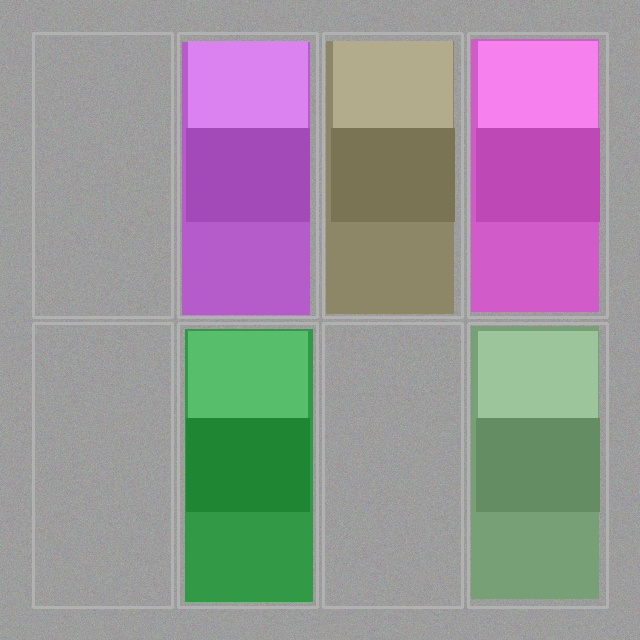space-empty: (35, 35, 170, 315), (35, 325, 170, 605), (325, 325, 460, 605)
space-occupied: (180, 35, 315, 315), (325, 35, 460, 315), (470, 35, 605, 315), (180, 325, 315, 605), (470, 325, 605, 605)
